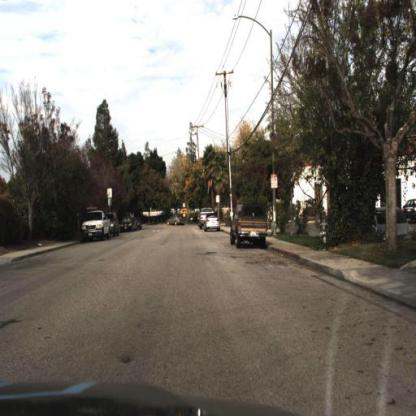car: (229, 201, 270, 253), (80, 208, 111, 242), (201, 213, 223, 236), (165, 209, 187, 229), (118, 213, 136, 236), (107, 209, 121, 238)
